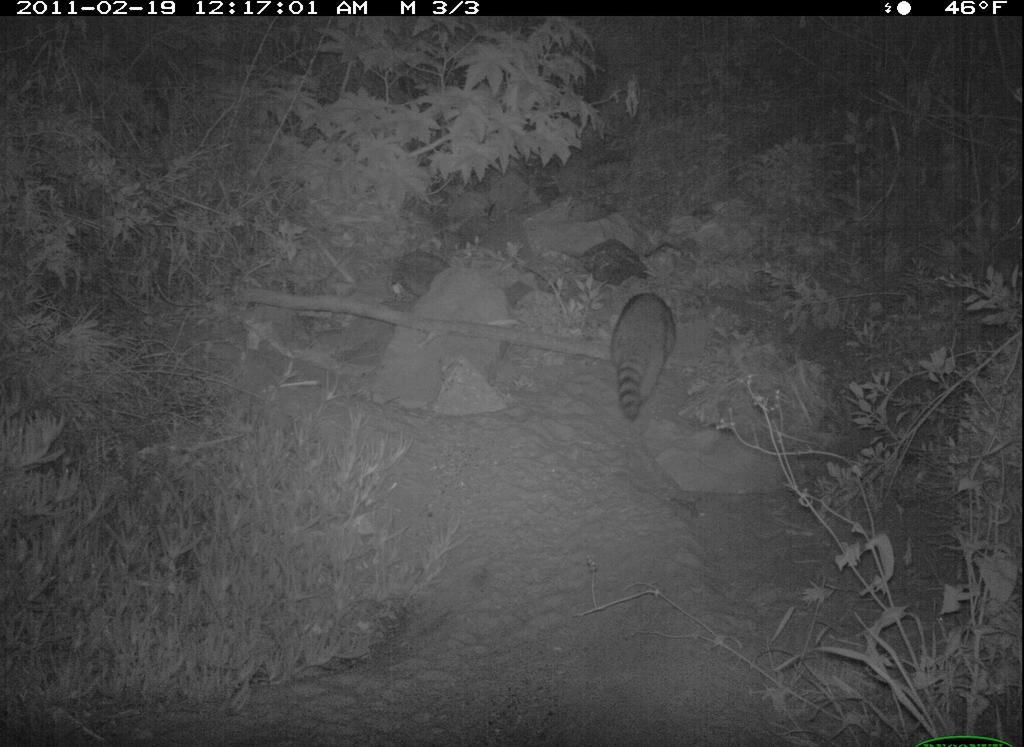raccoon: (600, 286, 696, 445)
